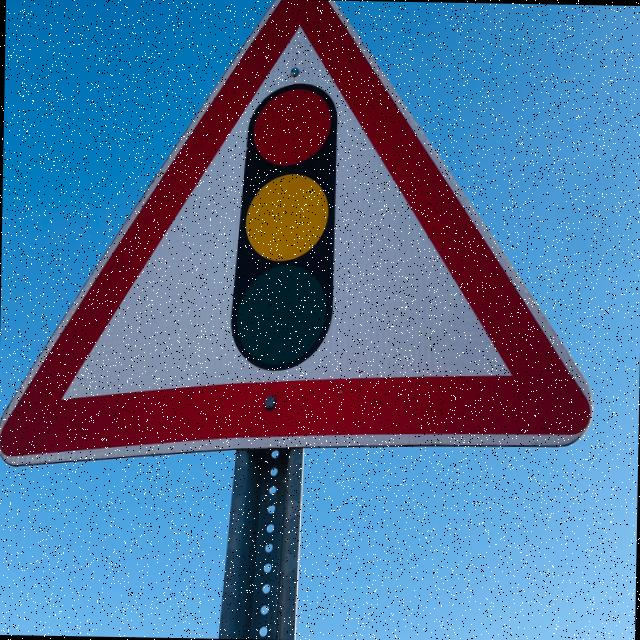light_traffic: (0, 0, 601, 472)
